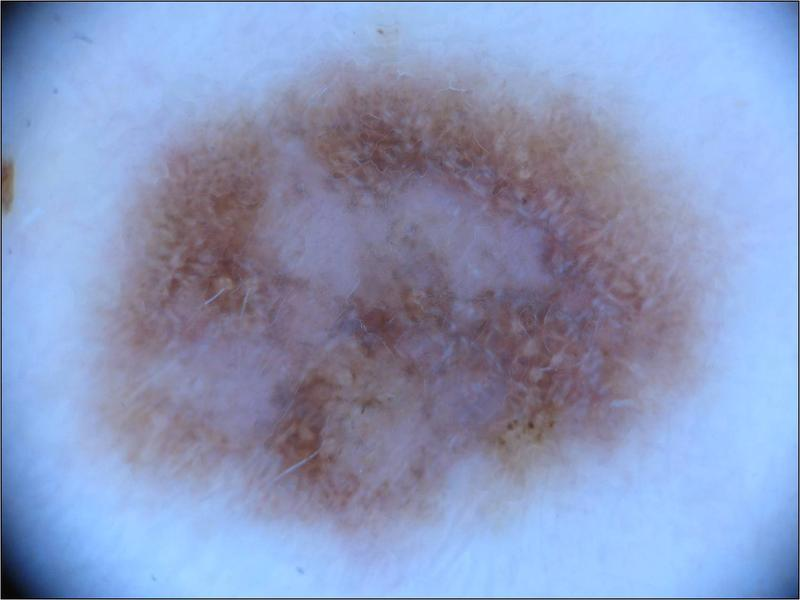Malignant: (148, 84, 602, 444)
